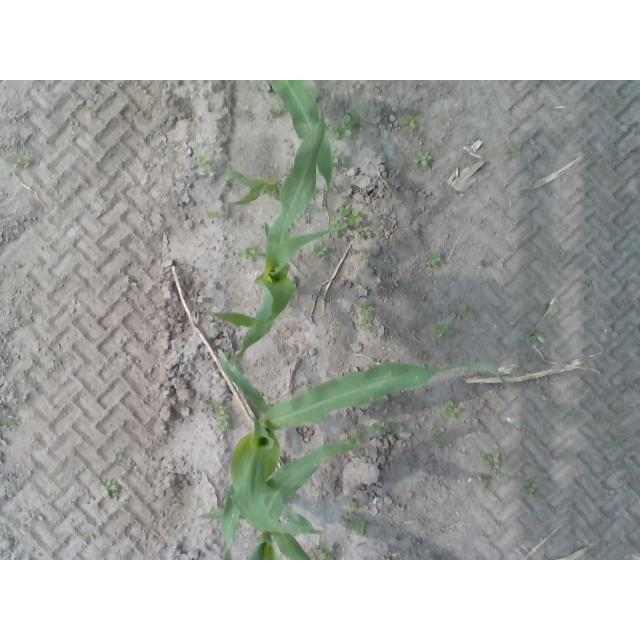Maize: (216, 346, 516, 546), (210, 104, 326, 362), (198, 441, 359, 560), (228, 81, 333, 208)
Weeds: (333, 208, 360, 232), (332, 115, 355, 141), (344, 517, 367, 534), (216, 405, 228, 435), (103, 479, 118, 497), (123, 275, 138, 293), (437, 328, 457, 341), (460, 306, 476, 322), (414, 152, 431, 167), (197, 156, 215, 170), (525, 481, 540, 497), (312, 548, 332, 560), (426, 250, 441, 266), (315, 244, 330, 260), (442, 400, 457, 416), (486, 451, 502, 465), (402, 115, 416, 129), (14, 158, 31, 169), (357, 316, 371, 329), (206, 210, 221, 222), (242, 248, 259, 258), (371, 422, 385, 434), (332, 147, 343, 162), (508, 145, 522, 156), (361, 303, 374, 314), (359, 247, 369, 257), (203, 404, 214, 413), (271, 108, 282, 117), (361, 227, 372, 236), (526, 334, 537, 343), (348, 501, 357, 511), (415, 314, 426, 322)
